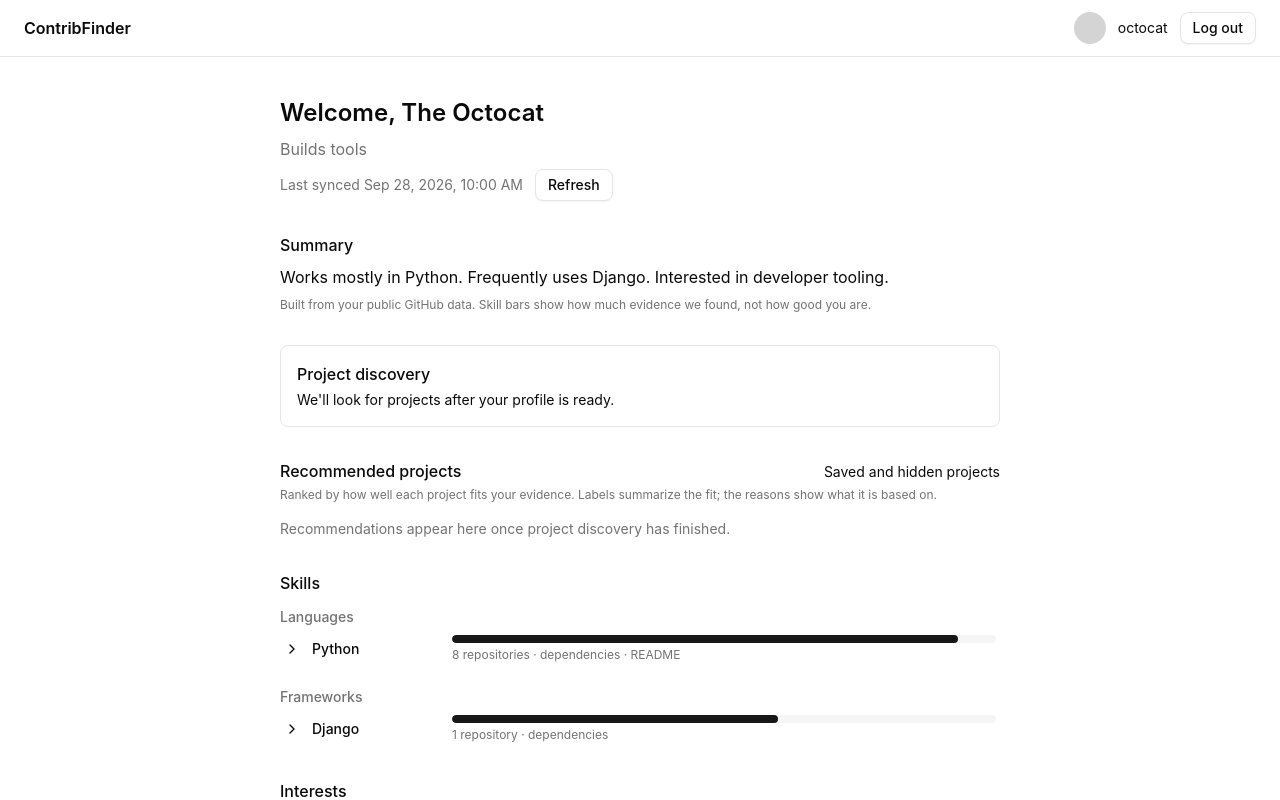
it: dashboard › explains the cooldown using Retry-After
The image size is (1280, 800).
Click the button "Refresh" at (574, 185), box [535,169,613,201]
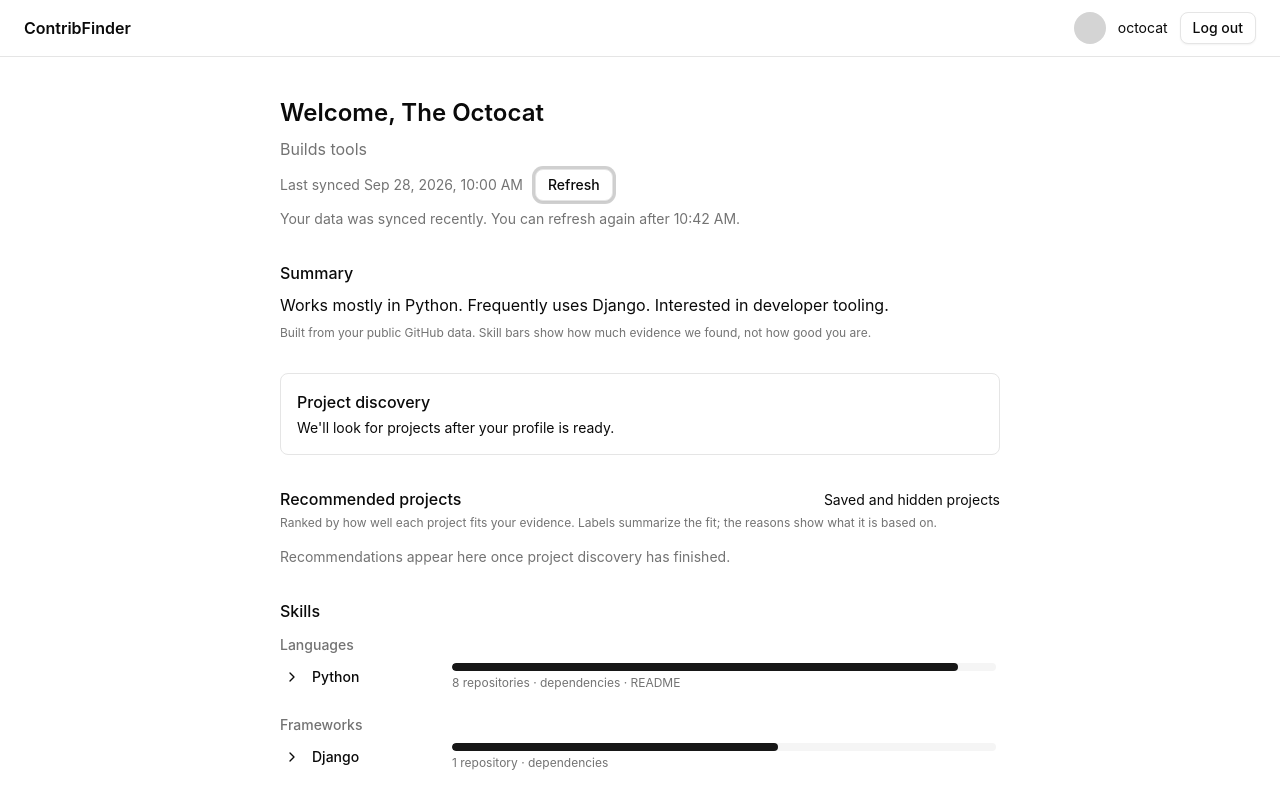
Check: the message shows "You can refresh again after", box [280,210,740,227]
